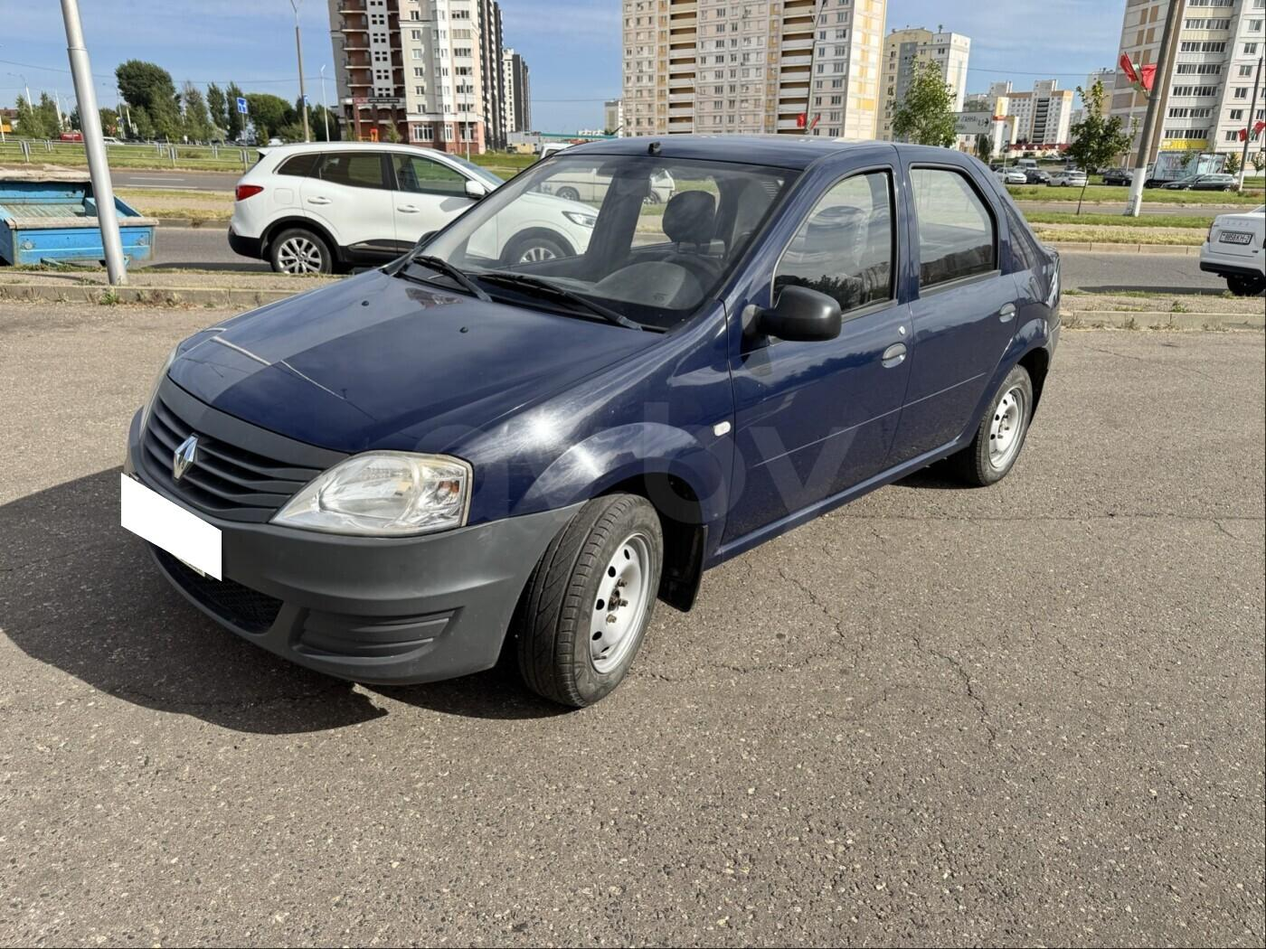Logan_2008-2015: (121, 124, 1077, 717)
